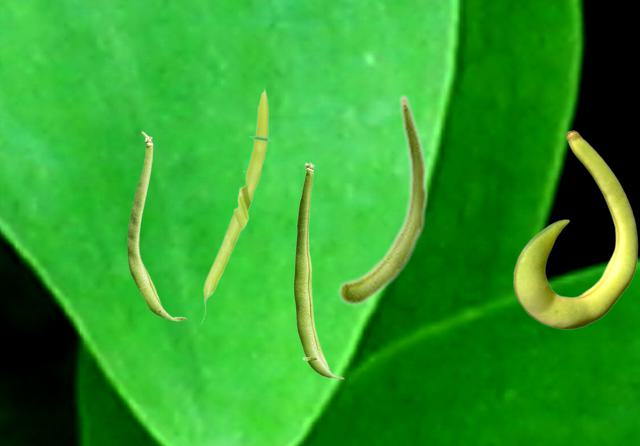french_bean: (513, 130, 637, 328), (337, 93, 428, 305), (200, 86, 270, 324), (127, 131, 186, 320), (293, 162, 344, 378)
